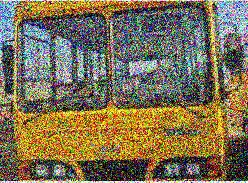bus: (6, 2, 232, 182)
